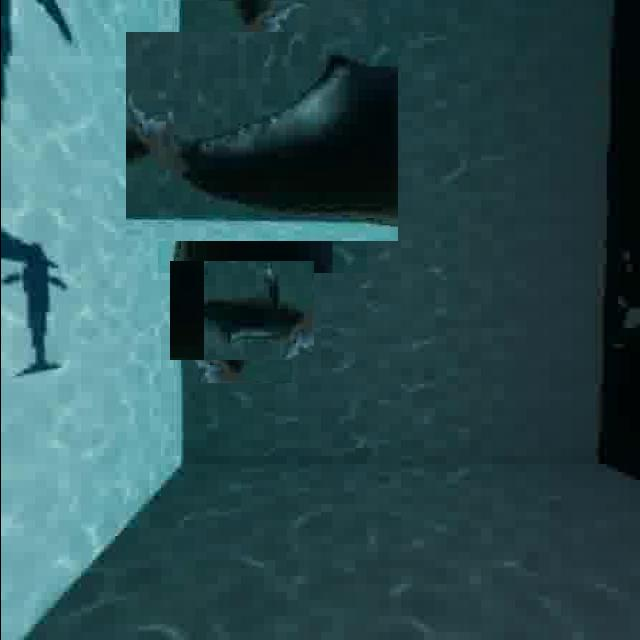Whale: (141, 16, 382, 257), (180, 250, 302, 372)
